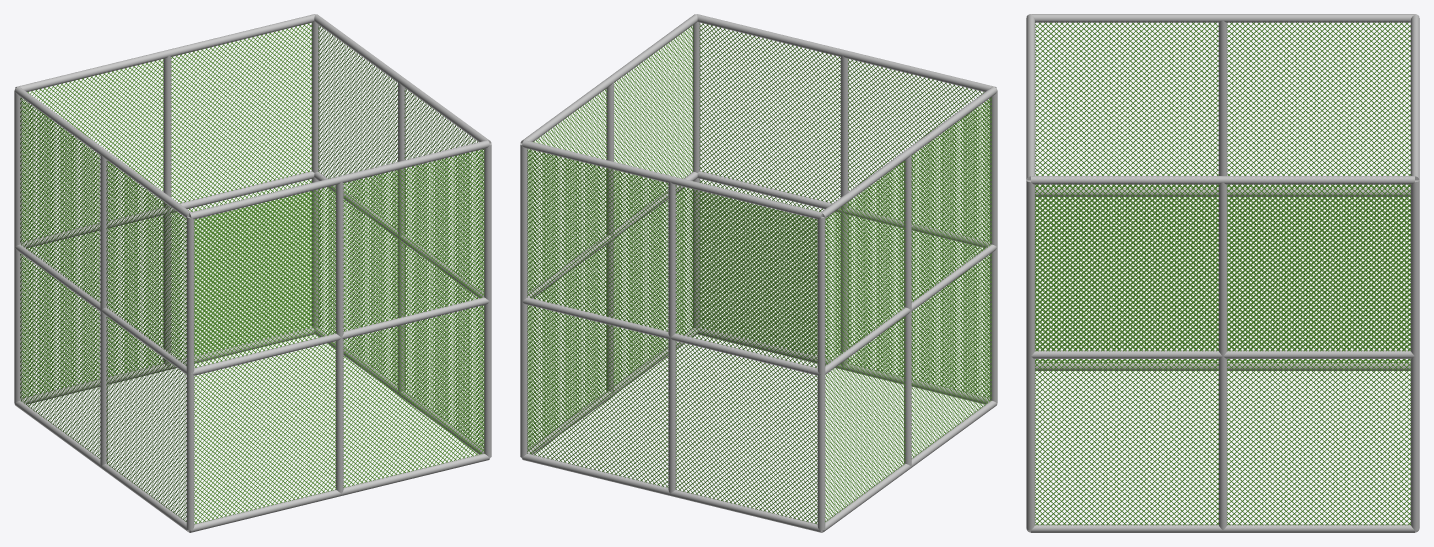
File: Cage 1.fbx
3 renders of one model, left to right at view 1: azimuth 30°, elevation 25°; view 2: azimuth 150°, elevation 25°; view 3: azimuth 270°, elevation 25°, orthographic. The views are drawn at different scales.
Visible parts, largest first — view 1: cage, Poles; view 2: cage, Poles; view 3: cage, Poles.
Boxes of the visible parts, x1=… form: cage: x1=20, y1=23, x2=484, y2=524; Poles: x1=14, y1=14, x2=491, y2=532; cage: x1=527, y1=23, x2=991, y2=523; Poles: x1=520, y1=14, x2=997, y2=532; cage: x1=1035, y1=22, x2=1410, y2=525; Poles: x1=1026, y1=14, x2=1419, y2=532.
Size of the model in its own units: 6.12 by 6.14 by 6.14.
2 materials, 1 textured.
